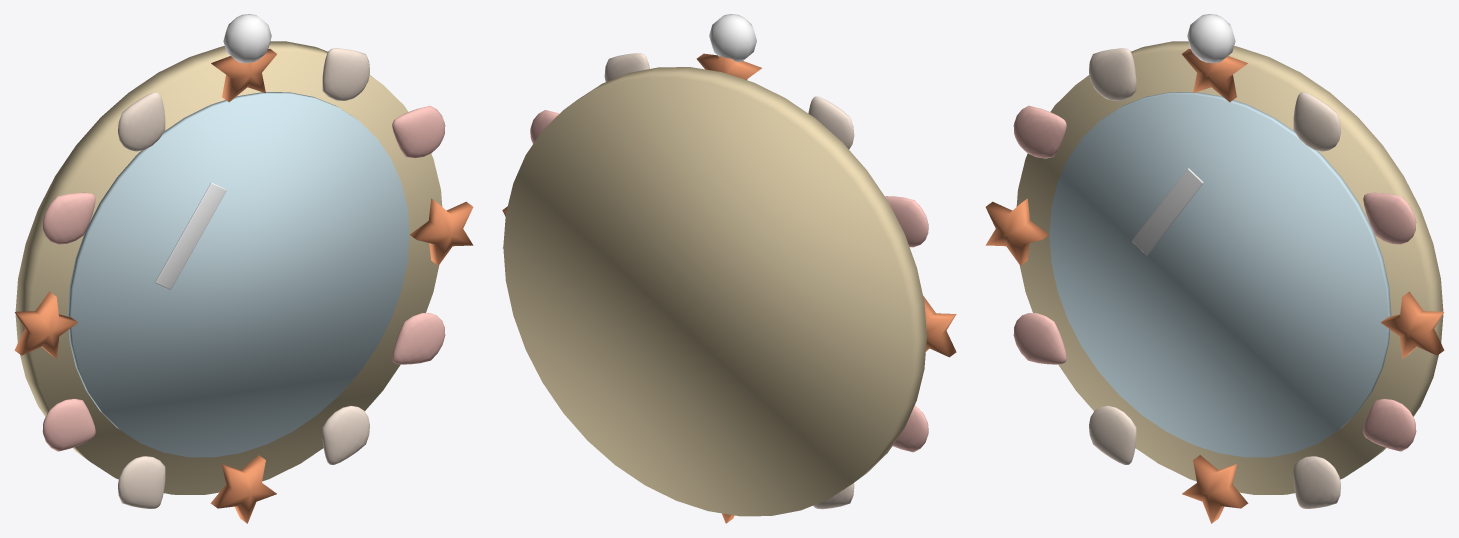
Rendered from shell-mirror.glb.
3 views of the same model, side by side, from view 1: azimuth 30°, elevation 25°; view 2: azimuth 150°, elevation 25°; view 3: azimuth 330°, elevation 25° (orthographic).
Visible parts, largest first — view 1: mirror; view 2: mirror; view 3: mirror.
Part boxes in pixels (box(x1,y1,x2,y2)): mirror: box(14, 14, 473, 523); mirror: box(502, 14, 956, 523); mirror: box(985, 14, 1444, 523).
Bounding box in the file's own units: 0.7209 × 0.775 × 0.1.
